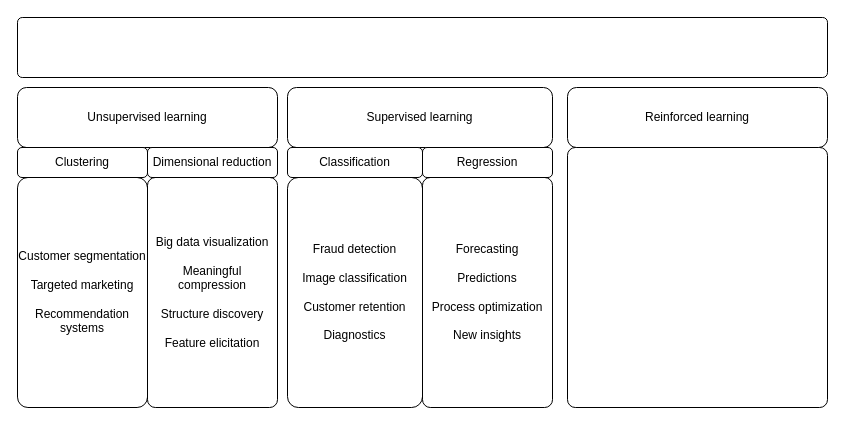
This 845x425 diagram has some shape labels left out. The box of each missing label's shape, as (x1, y1, x2, y2) in pixels:
Machine learning: (16, 16, 828, 78)
Real-time decisions Game AI Learning tasks Skill acquisition Robot navigation: (566, 146, 828, 408)
